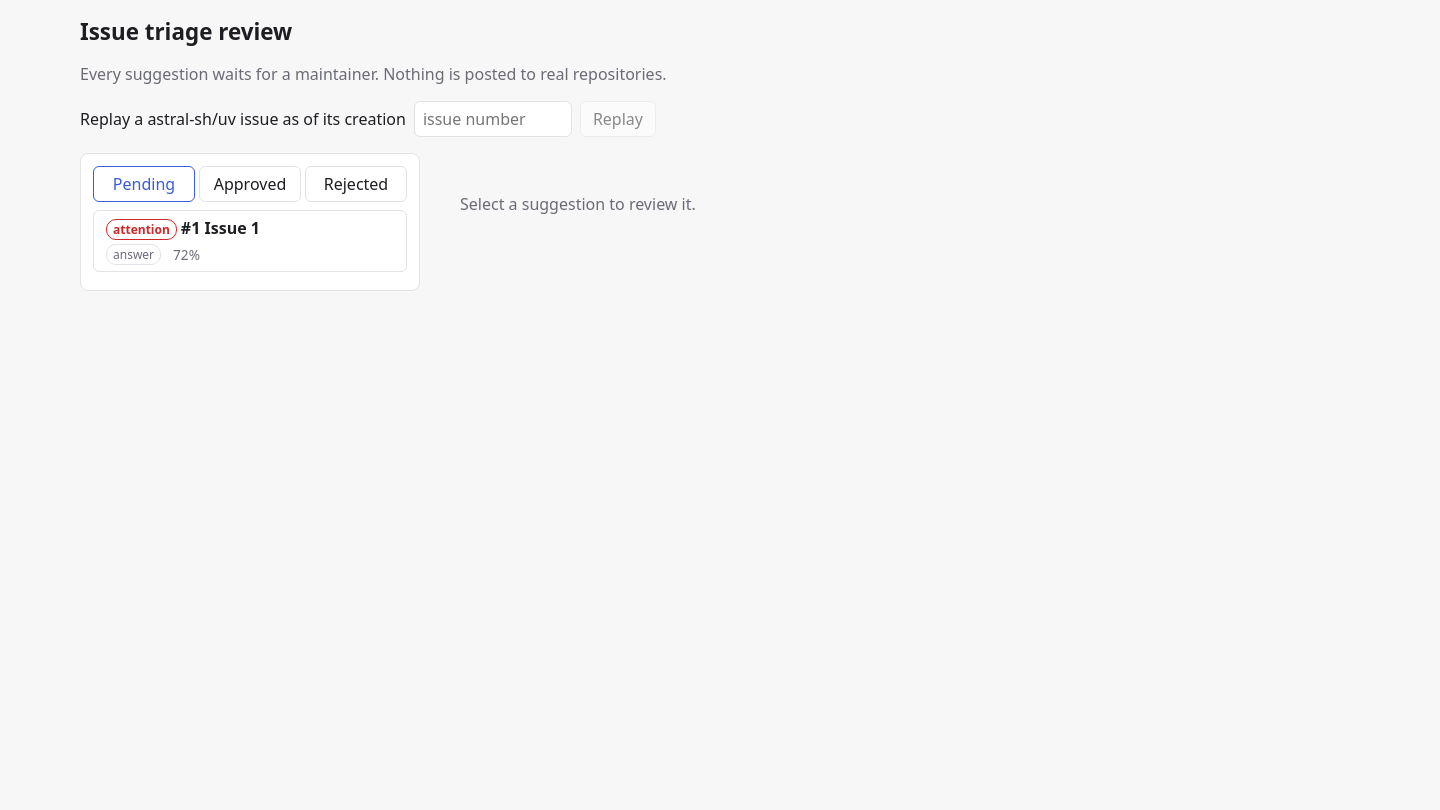
Scenario: run detail and review actions › flags runs that need attention
Step 1. Click the button "attention #1 Issue 1 answer 72%" → (250, 241), box [93,210,407,272]
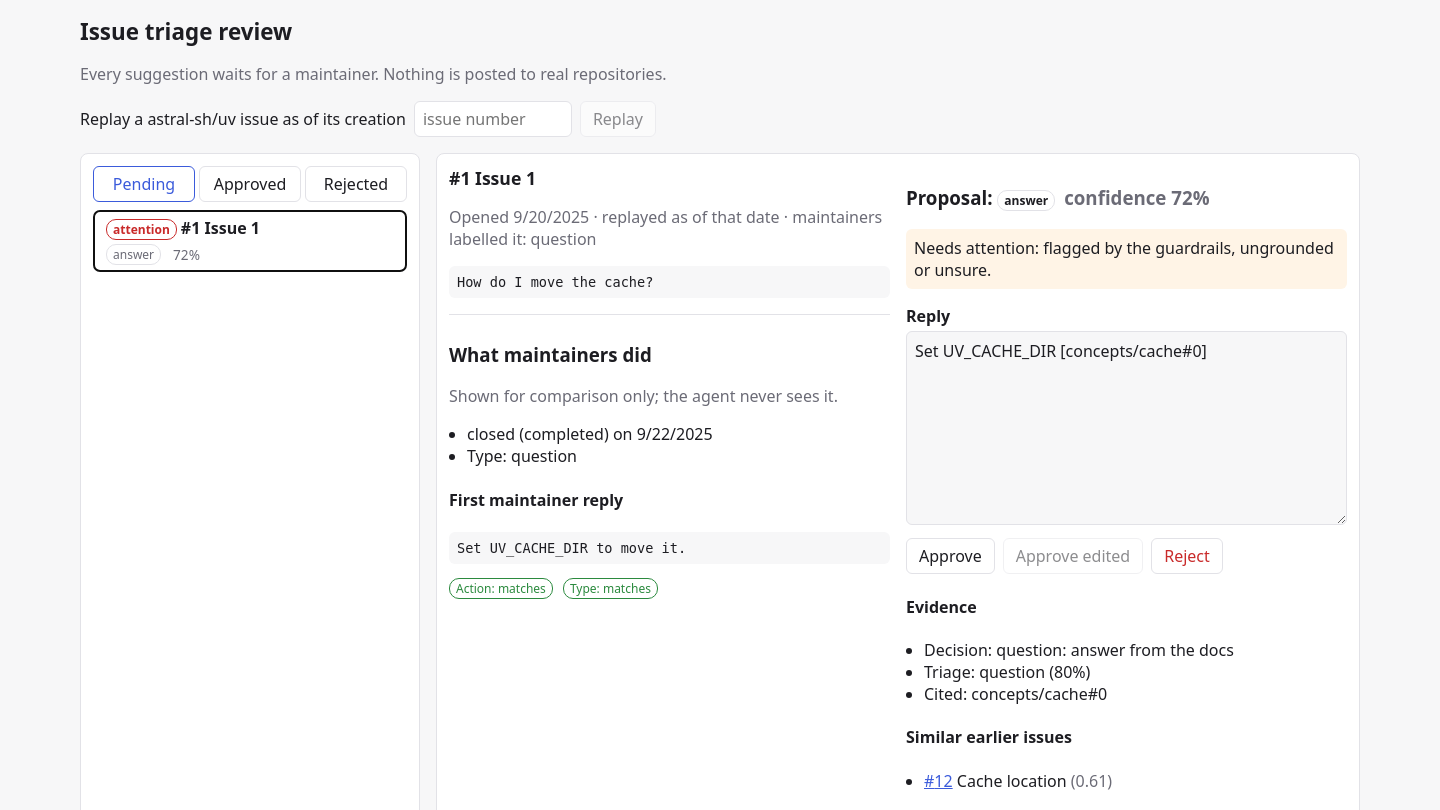
Check: the heading "#1 Issue 1" is shown, box [449,166,536,190]
Check: the text "Needs attention" is shown, box [914,237,1334,281]
